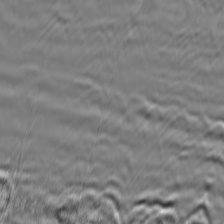cavities: (157, 61, 224, 148), (0, 92, 55, 153)
